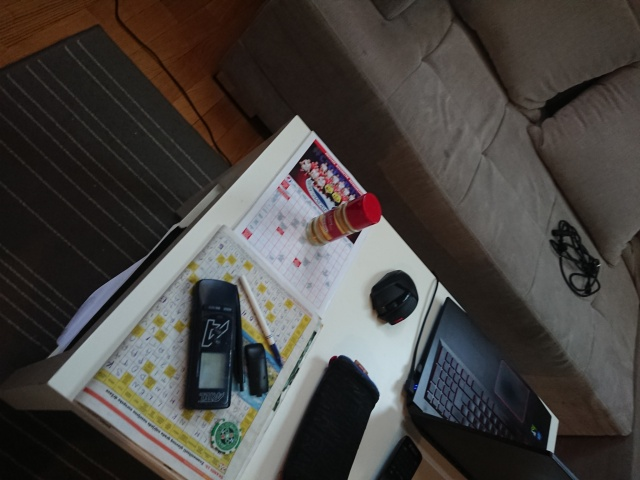Kotanyi Curry Spices Mix 70g: (304, 191, 384, 249)
